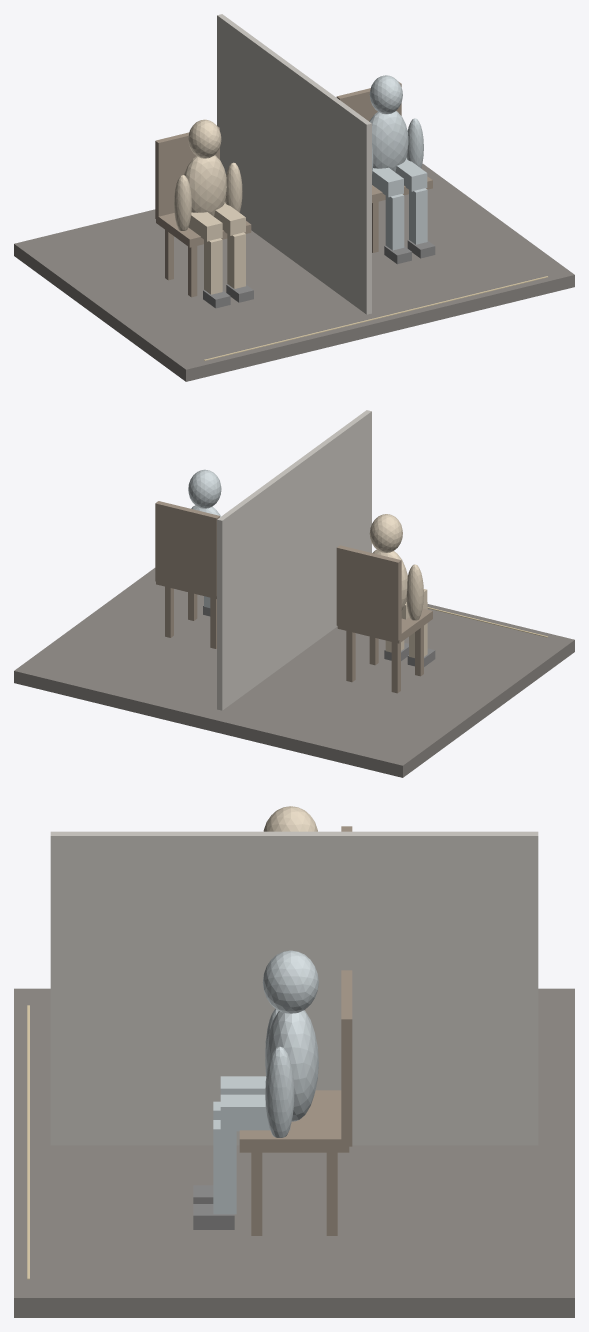
The model's file is stage.glb.
3 renders of one model, top to bottom at view 1: azimuth 30°, elevation 25°; view 2: azimuth 150°, elevation 25°; view 3: azimuth 270°, elevation 25°, orthographic. The views are drawn at different scales.
Parts seen in each view (by area): view 1: Stage, Partition, LeftChairBack, LeftTorso, RightTorso, RightShin0, LeftHead, RightHead, LeftShin0, RightShin1, LeftShin1, LeftArm0 (+10 smaller); view 2: Stage, Partition, LeftChairBack, RightChairBack, RightHead, LeftHead, LeftArm0, LeftSeat, LeftChairLeg00, LeftChairLeg10; view 3: Partition, Stage, RightSeat, RightTorso, RightHead, RightArm1, RightShin1, RightChairBack, RightThigh1, LeftHead, RightChairLeg10, RightChairLeg11 (+3 smaller).
Part boxes in pixels (box(x1,y1,x2,y2)): Stage: box(14, 157, 574, 381); Partition: box(217, 14, 371, 314); LeftChairBack: box(155, 126, 219, 220); LeftTorso: box(184, 155, 226, 216); RightTorso: box(369, 111, 408, 171); RightShin0: box(385, 194, 404, 250); LeftHead: box(188, 119, 221, 158); RightHead: box(369, 75, 402, 114); LeftShin0: box(204, 238, 222, 294); RightShin1: box(409, 188, 427, 244); LeftShin1: box(227, 232, 245, 288); LeftArm0: box(174, 175, 191, 230); Stage: box(14, 568, 574, 777); Partition: box(217, 410, 371, 710); LeftChairBack: box(336, 545, 401, 640); RightChairBack: box(155, 501, 219, 596); RightHead: box(188, 469, 221, 508); LeftHead: box(369, 514, 402, 552); LeftArm0: box(406, 564, 423, 620); LeftSeat: box(337, 608, 432, 643); LeftChairLeg00: box(391, 642, 400, 693); LeftChairLeg10: box(346, 631, 355, 682); Partition: box(50, 831, 538, 1145); Stage: box(14, 988, 574, 1317); RightSeat: box(239, 1090, 349, 1152); RightTorso: box(265, 1010, 318, 1121); RightHead: box(262, 950, 318, 1013); RightArm1: box(265, 1046, 294, 1137); RightShin1: box(213, 1120, 236, 1214); RightChairBack: box(341, 970, 352, 1146); RightThigh1: box(220, 1094, 290, 1131); LeftHead: box(263, 806, 317, 831); RightChairLeg10: box(326, 1152, 337, 1235); RightChairLeg11: box(251, 1152, 262, 1235).
Size of the model in its own units: 0.6 by 0.298 by 0.46.
